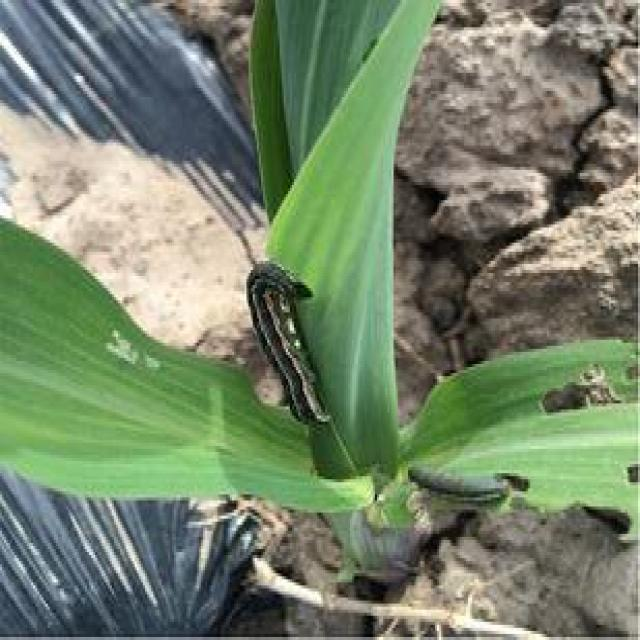BeetArmyWorm-Larva-: (234, 249, 336, 438)
